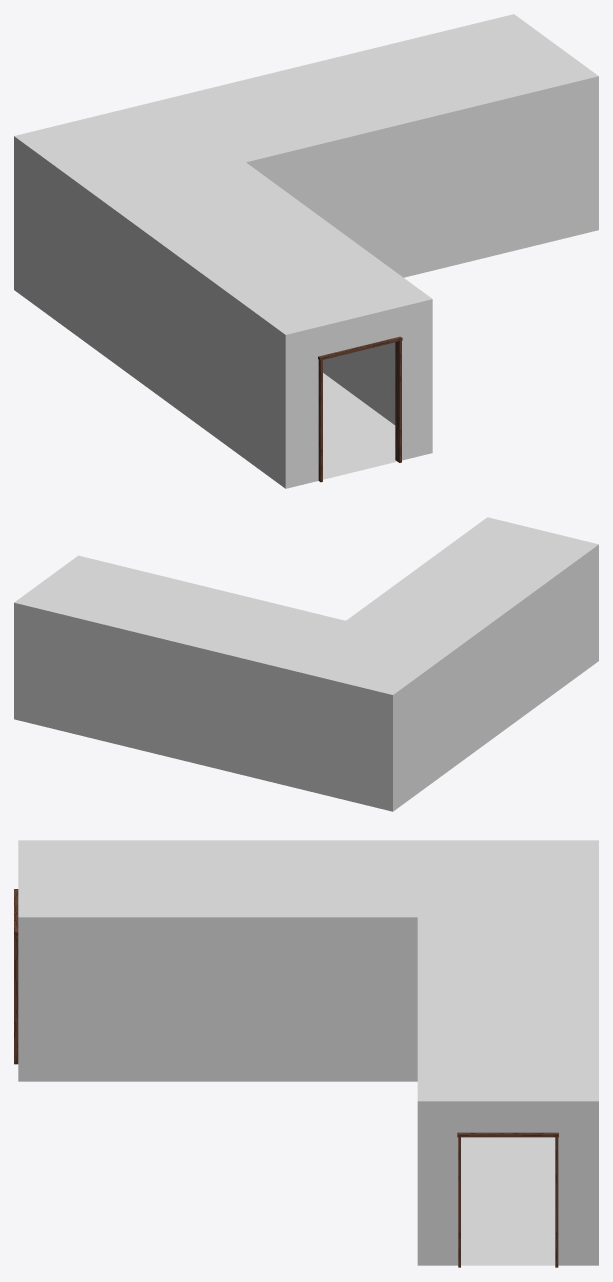
File: lshapedhallway.fbx
3 renders of one model, top to bottom at view 1: azimuth 30°, elevation 25°; view 2: azimuth 150°, elevation 25°; view 3: azimuth 270°, elevation 25°, orthographic. The views are drawn at different scales.
Parts seen in each view (by area): view 1: L-Shaped Hallway; view 2: L-Shaped Hallway; view 3: L-Shaped Hallway.
Boxes of the visible parts, x1,y1,x2,y2 form: L-Shaped Hallway: (14,14,598,488); L-Shaped Hallway: (14,517,598,811); L-Shaped Hallway: (14,840,598,1267).
Size of the model in its own units: 856 by 250 by 806.
Materials: 3 (1 with a texture image).
